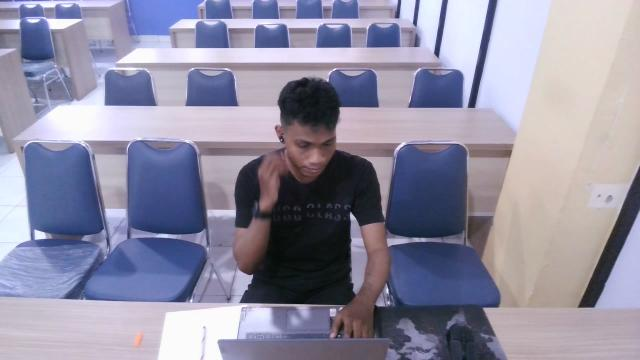Earpiece: (269, 123, 294, 147)
Normal_Focus: (223, 70, 394, 317)
